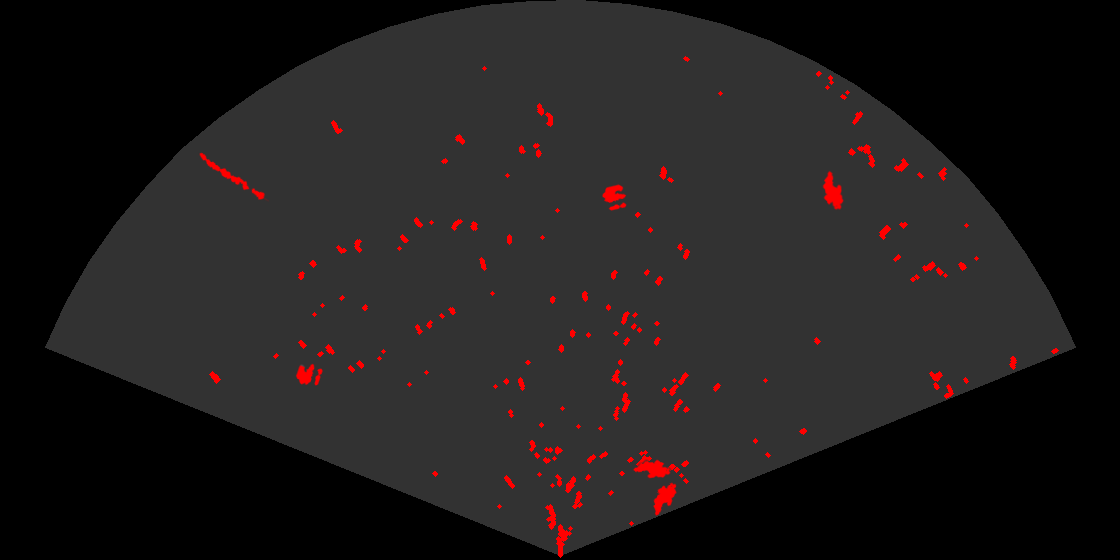AUV: (821, 169, 845, 211), (652, 481, 678, 518), (631, 458, 672, 480)
ball: (601, 183, 628, 212), (294, 362, 324, 387)
chain: (198, 151, 269, 203)
